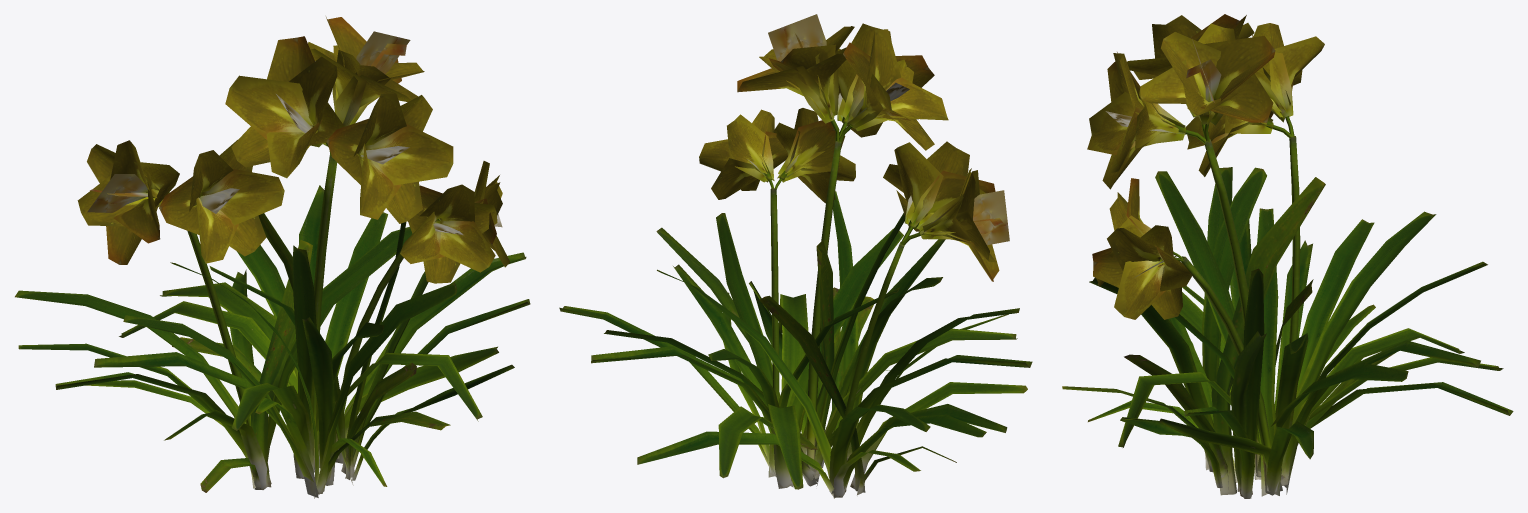
Rendered from Amaryllis_bush_normal_yellowgreen.glb.
3 views of the same model, side by side, from view 1: azimuth 30°, elevation 25°; view 2: azimuth 150°, elevation 25°; view 3: azimuth 270°, elevation 25° (orthographic). The views are drawn at different scales.
Visible parts, largest first — view 1: bush; view 2: bush; view 3: bush.
Boxes of the visible parts, box(x1,y1,x2,y2) form: bush: box(15, 17, 530, 498); bush: box(559, 14, 1032, 498); bush: box(1062, 14, 1513, 498).
Size of the model in its own units: 2.94 by 2.74 by 2.41.
Materials: 1 (1 with a texture image).
